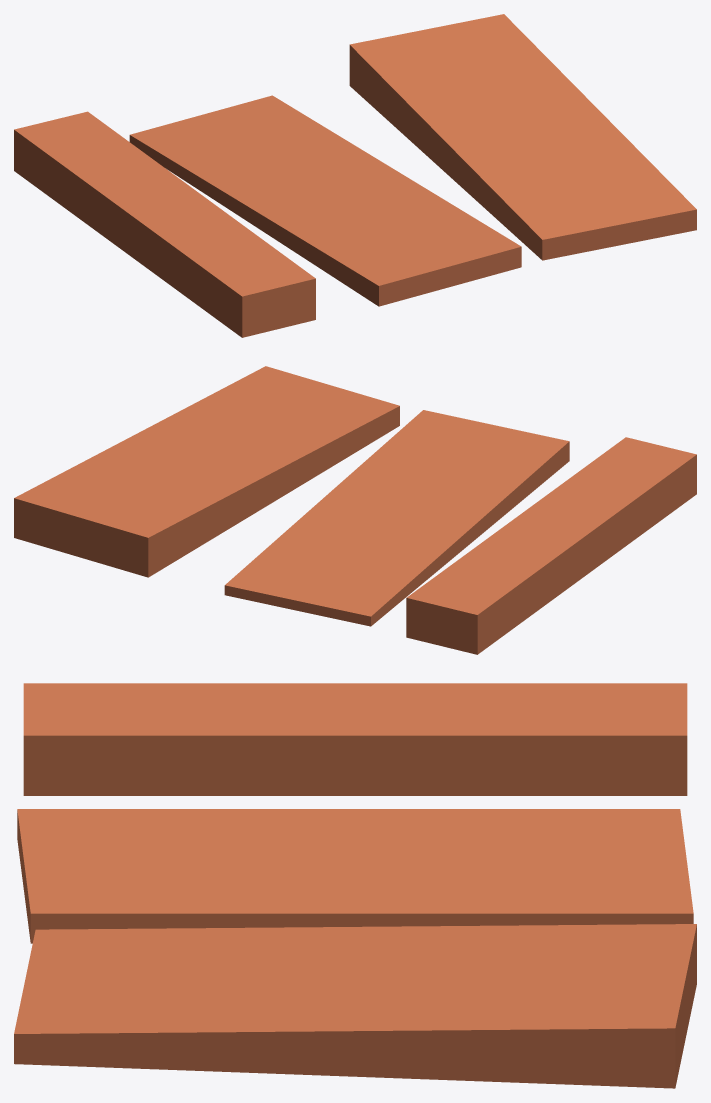
File: path_woodEnd.obj
The picture shows the model from 3 angles, top to bottom: view 1: azimuth 30°, elevation 25°; view 2: azimuth 150°, elevation 25°; view 3: azimuth 270°, elevation 25°; orthographic projection. The views are drawn at different scales.
Visible parts, largest first — view 1: path_woodEnd; view 2: path_woodEnd; view 3: path_woodEnd.
Part boxes in pixels (box(x1,y1,x2,y2)): path_woodEnd: box(14, 14, 696, 337); path_woodEnd: box(14, 366, 696, 654); path_woodEnd: box(14, 683, 696, 1088).
Size of the model in its own units: 0.6148 by 0.05 by 0.5144.
